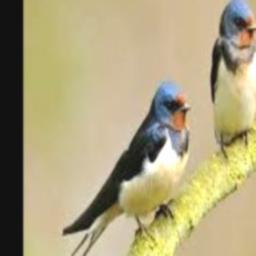Swallow: (39, 82, 192, 256), (209, 0, 256, 150)
